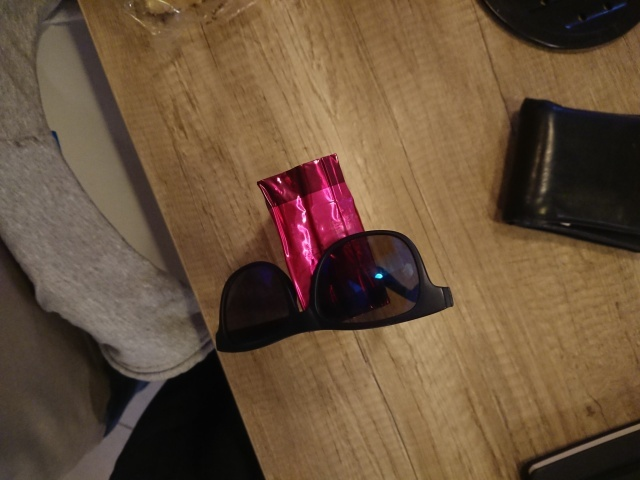Barcaffe Classic Original 225g: (254, 152, 394, 333)
